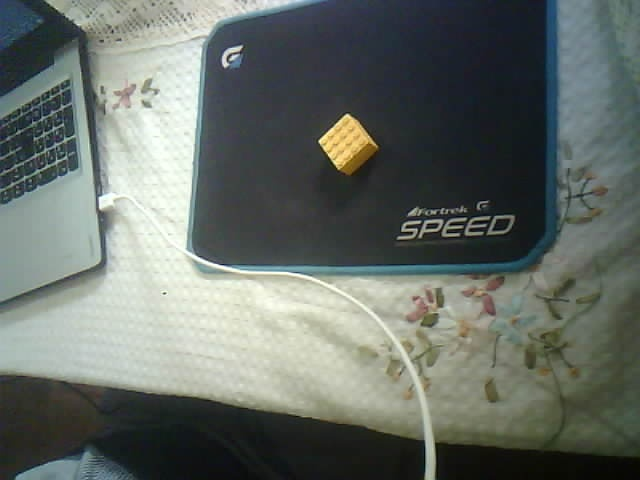lego: (316, 113, 378, 177)
